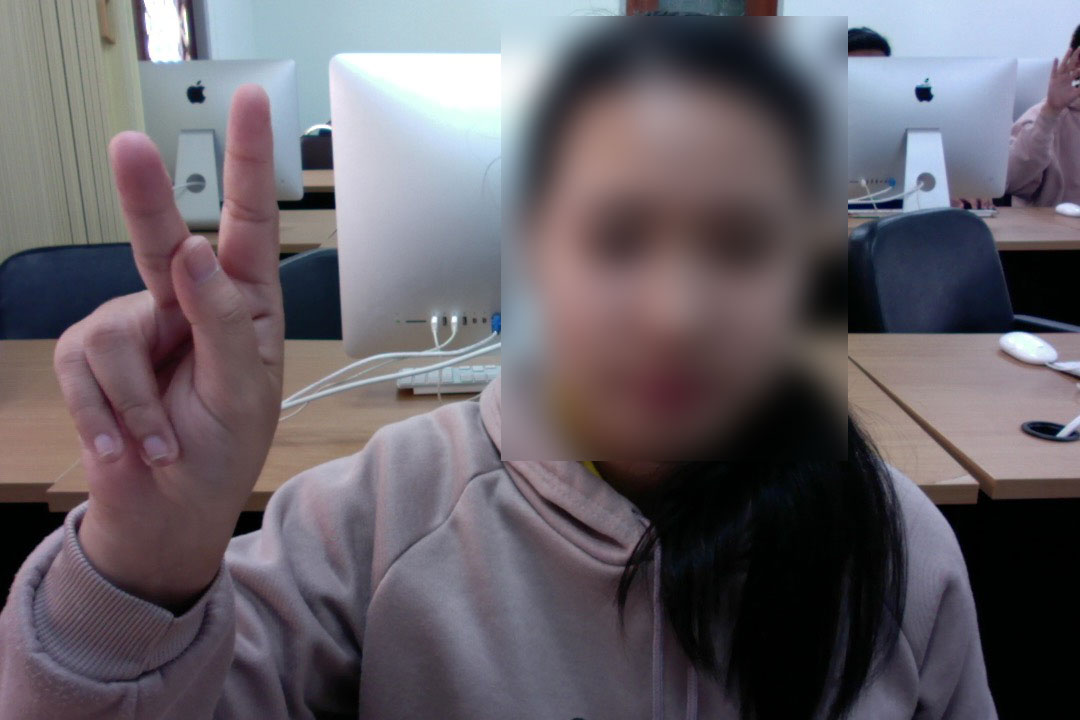ko: (41, 73, 308, 530)
